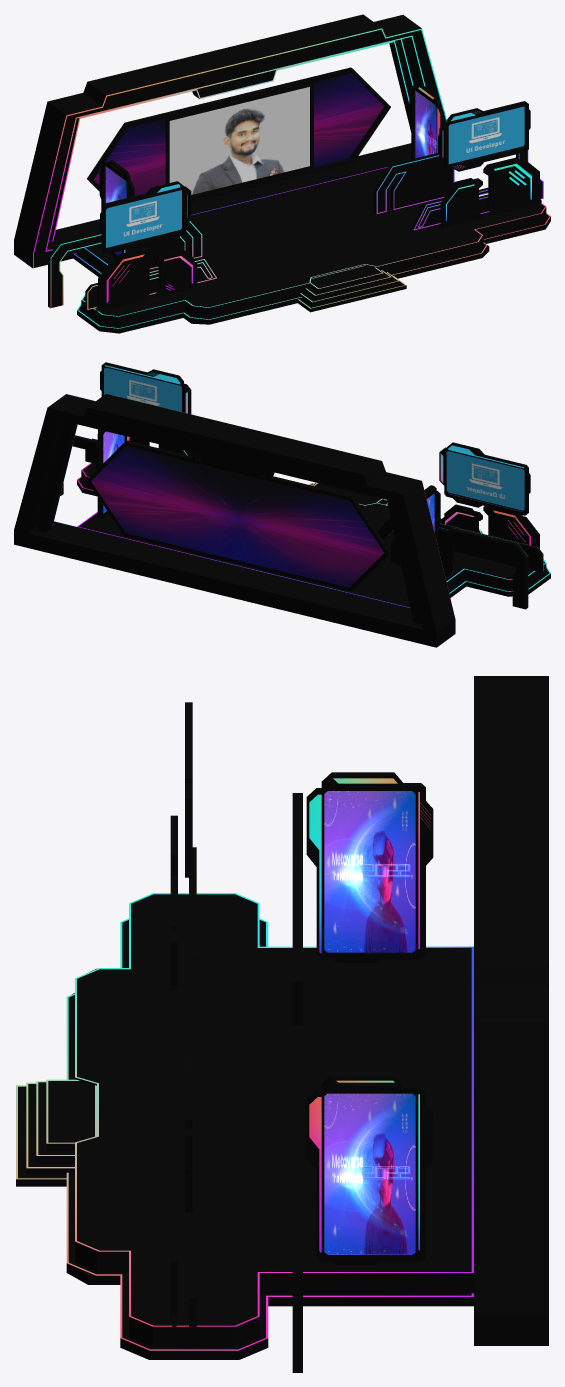
The model's file is stage.glb.
3 views of the same model, one above another, from view 1: azimuth 30°, elevation 25°; view 2: azimuth 150°, elevation 25°; view 3: azimuth 270°, elevation 25° (orthographic). The views are drawn at different scales.
Parts seen in each view (by area): view 1: Object021_001_Stage-white_0, Object024_001_Stage-white_0, Rectangle022_002_Material #126_0, Rectangle035_001_Material #133_0, Rectangle001_009_Stage-white_0, Rectangle001_007_Stage-white_0, Object022_001_Stage-white_0, Rectangle022_001_Material #126_0, Rectangle022_003_Material #126_0, Object025_001_Stage-white_0, Object025_003_Stage-white_0, Rectangle001_017_Stage-white_0 (+23 smaller); view 2: Object024_001_Stage-white_0, Rectangle035_001_Material #133_0, Object021_001_Stage-white_0, Object024_002_Stage-white_0, Rectangle022_003_Material #126_0, Rectangle001_009_Stage-white_0, Rectangle001_017_Stage-white_0, Rectangle022_001_Material #126_0, Rectangle001_018_Stage-white_0, Object026_001_Stage-white_0, Object025_001_Stage-white_0, Rectangle001_008_Stage-white_0 (+7 smaller); view 3: Object021_001_Stage-white_0, Object024_001_Stage-white_0, Rectangle040_003_Material #131_0, Rectangle040_002_Material #131_0, Object022_001_Stage-white_0, Rectangle001_020_Stage-white_0, Rectangle001_010_Stage-white_0, Rectangle011_037_Colorful light_0, Rectangle001_003_Stage-white_0, Rectangle001_007_Stage-white_0, Rectangle001_017_Stage-white_0, Rectangle011_042_Colorful light_0 (+10 smaller).
Part boxes in pixels (bbox=[...]): Object021_001_Stage-white_0: bbox=[77, 167, 546, 326]; Object024_001_Stage-white_0: bbox=[14, 14, 446, 268]; Rectangle022_002_Material #126_0: bbox=[169, 87, 309, 194]; Rectangle035_001_Material #133_0: bbox=[93, 73, 384, 195]; Rectangle001_009_Stage-white_0: bbox=[87, 67, 390, 202]; Rectangle001_007_Stage-white_0: bbox=[374, 151, 527, 213]; Object022_001_Stage-white_0: bbox=[73, 214, 550, 333]; Rectangle022_001_Material #126_0: bbox=[448, 106, 524, 164]; Rectangle022_003_Material #126_0: bbox=[106, 190, 181, 247]; Object025_001_Stage-white_0: bbox=[102, 247, 154, 310]; Object025_003_Stage-white_0: bbox=[483, 157, 537, 215]; Rectangle001_017_Stage-white_0: bbox=[48, 221, 201, 308]; Object024_001_Stage-white_0: bbox=[14, 393, 455, 647]; Rectangle035_001_Material #133_0: bbox=[91, 446, 384, 587]; Object021_001_Stage-white_0: bbox=[77, 463, 546, 608]; Object024_002_Stage-white_0: bbox=[37, 418, 421, 624]; Rectangle022_003_Material #126_0: bbox=[446, 451, 524, 510]; Rectangle001_009_Stage-white_0: bbox=[87, 440, 390, 591]; Rectangle001_017_Stage-white_0: bbox=[377, 517, 528, 609]; Rectangle022_001_Material #126_0: bbox=[104, 367, 181, 411]; Rectangle001_018_Stage-white_0: bbox=[439, 442, 530, 515]; Object026_001_Stage-white_0: bbox=[438, 523, 543, 572]; Object025_001_Stage-white_0: bbox=[483, 506, 535, 546]; Rectangle001_008_Stage-white_0: bbox=[100, 362, 191, 414]; Object021_001_Stage-white_0: bbox=[75, 894, 473, 1347]; Object024_001_Stage-white_0: bbox=[474, 676, 548, 1345]; Rectangle040_003_Material #131_0: bbox=[324, 1093, 415, 1254]; Rectangle040_002_Material #131_0: bbox=[324, 791, 415, 952]; Object022_001_Stage-white_0: bbox=[66, 920, 473, 1359]; Rectangle001_020_Stage-white_0: bbox=[306, 1074, 433, 1264]; Rectangle001_010_Stage-white_0: bbox=[306, 772, 433, 962]; Rectangle011_037_Colorful light_0: bbox=[75, 893, 473, 1326]; Rectangle001_003_Stage-white_0: bbox=[46, 1081, 94, 1150]; Rectangle001_007_Stage-white_0: bbox=[292, 1123, 302, 1372]; Rectangle001_017_Stage-white_0: bbox=[292, 793, 302, 1025]; Rectangle011_042_Colorful light_0: bbox=[66, 918, 473, 1350].
Bounding box in the file's own units: 27.31 × 8.47 × 13.18.
6 materials, 5 textured.
